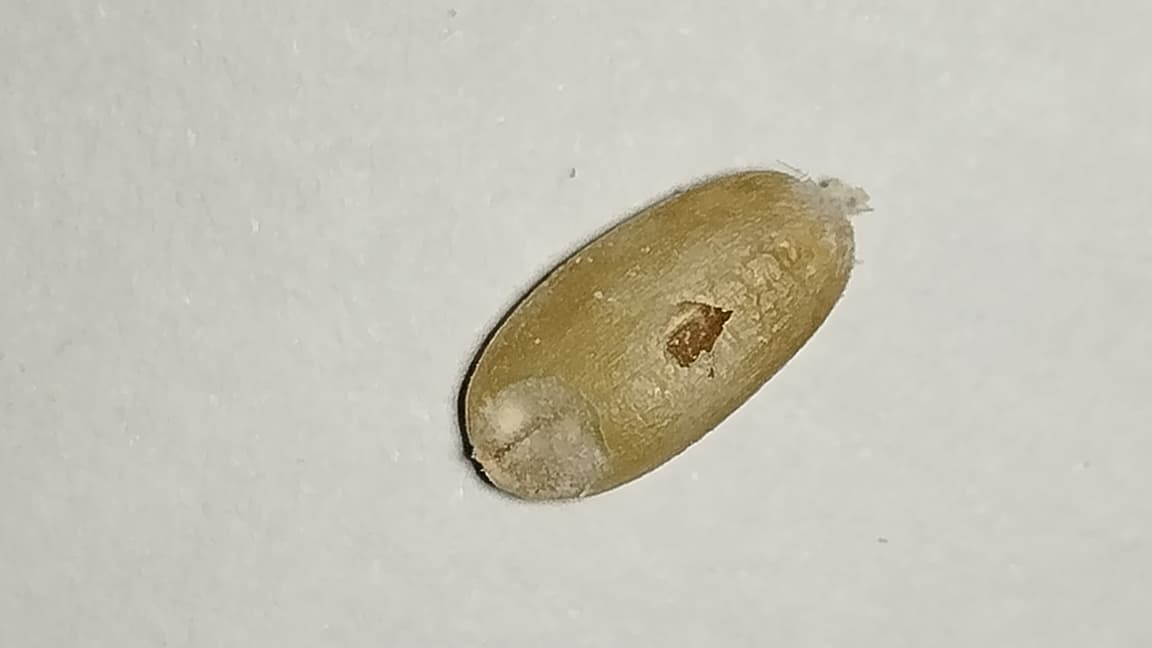damage: (457, 169, 870, 501)
insectdamage: (470, 372, 625, 523), (633, 288, 743, 384)
